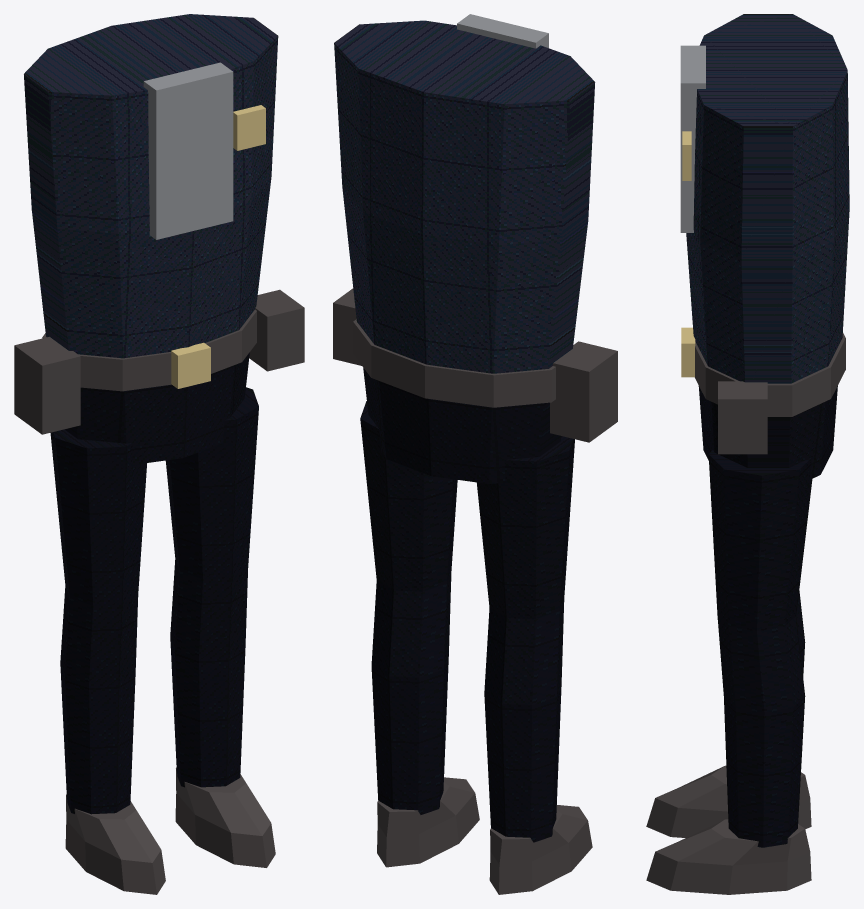
Rendered from fp_guard_body.glb.
3 views of the same model, side by side, from view 1: azimuth 30°, elevation 25°; view 2: azimuth 150°, elevation 25°; view 3: azimuth 270°, elevation 25° (orthographic). The views are drawn at different scales.
Parts seen in each view (by area): view 1: TorsoJacket, Leg_L, Leg_R, SweaterInsert, PelvisTrousers, BootFoot_R, BootFoot_L, RadioHolster, UtilityBelt, KeyPouch, BeltBuckle, MartinSecurityBadge; view 2: TorsoJacket, Leg_L, Leg_R, PelvisTrousers, UtilityBelt, RadioHolster, BootFoot_R, BootFoot_L, SweaterInsert, KeyPouch; view 3: TorsoJacket, Leg_R, BootFoot_R, PelvisTrousers, BootFoot_L, UtilityBelt, KeyPouch, SweaterInsert, BeltBuckle, MartinSecurityBadge.
Part boxes in pixels (x1=…): TorsoJacket: x1=24, y1=14, x2=278, y2=358; Leg_L: x1=50, y1=429, x2=146, y2=814; Leg_R: x1=165, y1=387, x2=258, y2=787; SweaterInsert: x1=143, y1=62, x2=233, y2=239; PelvisTrousers: x1=65, y1=352, x2=249, y2=464; BootFoot_R: x1=175, y1=767, x2=275, y2=867; BootFoot_L: x1=65, y1=794, x2=165, y2=894; RadioHolster: x1=14, y1=336, x2=80, y2=434; UtilityBelt: x1=42, y1=309, x2=256, y2=391; KeyPouch: x1=249, y1=289, x2=304, y2=371; BeltBuckle: x1=171, y1=342, x2=210, y2=388; MartinSecurityBadge: x1=233, y1=105, x2=265, y2=150; TorsoJacket: x1=334, y1=20, x2=595, y2=373; Leg_L: x1=476, y1=436, x2=574, y2=842; Leg_R: x1=360, y1=401, x2=457, y2=814; PelvisTrousers: x1=363, y1=368, x2=561, y2=483; UtilityBelt: x1=353, y1=319, x2=555, y2=407; RadioHolster: x1=550, y1=341, x2=617, y2=442; BootFoot_R: x1=377, y1=777, x2=479, y2=867; BootFoot_L: x1=489, y1=805, x2=592, y2=894; SweaterInsert: x1=457, y1=14, x2=548, y2=48; KeyPouch: x1=333, y1=288, x2=361, y2=365; TorsoJacket: x1=686, y1=14, x2=849, y2=383; Leg_R: x1=708, y1=450, x2=812, y2=847; BootFoot_R: x1=646, y1=819, x2=811, y2=894; PelvisTrousers: x1=698, y1=386, x2=837, y2=479; BootFoot_L: x1=646, y1=765, x2=811, y2=837; UtilityBelt: x1=695, y1=333, x2=845, y2=416; KeyPouch: x1=718, y1=381, x2=767, y2=454; SweaterInsert: x1=680, y1=45, x2=705, y2=232; BeltBuckle: x1=681, y1=327, x2=695, y2=377; MartinSecurityBadge: x1=682, y1=131, x2=691, y2=180.
Bounding box in the file's own units: 0.469 × 1.37 × 0.32.
5 materials, 2 textured.
